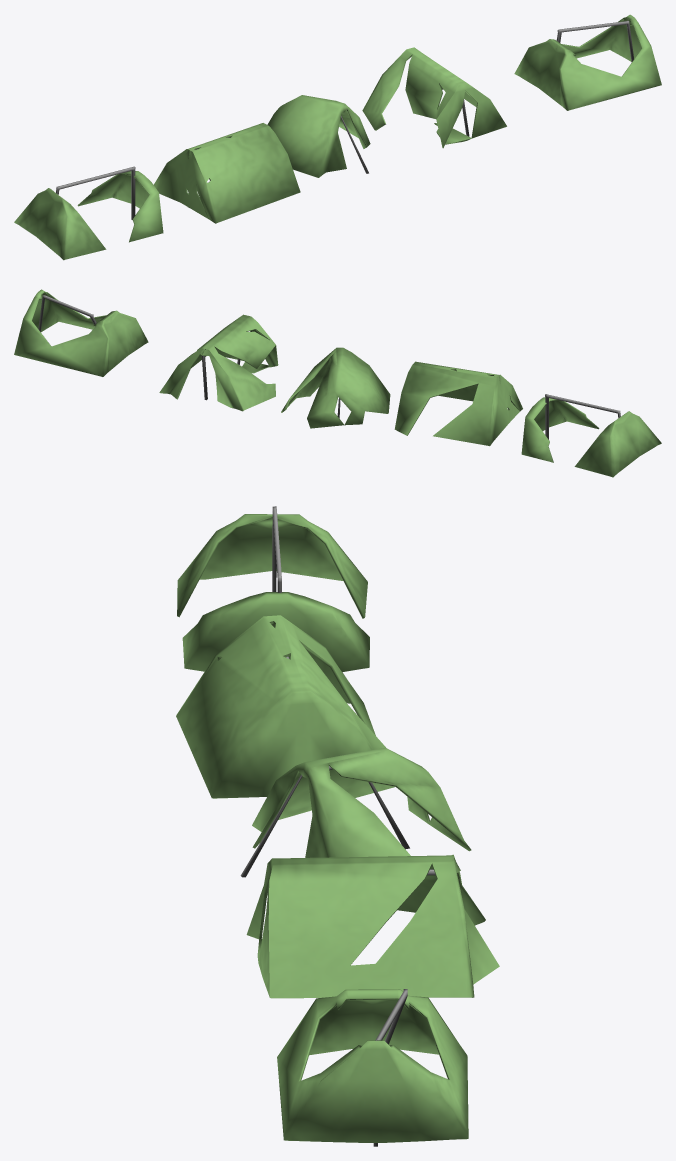
The model's file is DamagedTents_Green.obj.
3 views of the same model, one above another, from view 1: azimuth 30°, elevation 25°; view 2: azimuth 150°, elevation 25°; view 3: azimuth 270°, elevation 25° (orthographic). The views are drawn at different scales.
Visible parts, largest first — view 1: DamagedTent_Base.003_Material, DamagedTent_Base_Material, DamagedTent_Base.001_Material, DamagedTent_Base.004_Material, DamagedTent_Base.002_Material, Tent_SupportBar.009_Material.159, Tent_SupportBar.005_Material.159; view 2: DamagedTent_Base.003_Material, DamagedTent_Base_Material, DamagedTent_Base.001_Material, DamagedTent_Base.004_Material, DamagedTent_Base.002_Material, Tent_SupportBar.009_Material.159, Tent_SupportBar.005_Material.159; view 3: DamagedTent_Base.001_Material, DamagedTent_Base_Material, DamagedTent_Base.003_Material, DamagedTent_Base.004_Material, DamagedTent_Base.002_Material, Tent_SupportBar.007_Material.159.
Boxes of the visible parts, left/top/right/bottom form: DamagedTent_Base.003_Material: left=154, top=123, right=300, bottom=223; DamagedTent_Base_Material: left=514, top=14, right=661, bottom=110; DamagedTent_Base.001_Material: left=362, top=47, right=506, bottom=148; DamagedTent_Base.004_Material: left=14, top=171, right=163, bottom=260; DamagedTent_Base.002_Material: left=267, top=95, right=370, bottom=177; Tent_SupportBar.009_Material.159: left=56, top=166, right=135, bottom=219; Tent_SupportBar.005_Material.159: left=556, top=20, right=633, bottom=62; DamagedTent_Base.003_Material: left=394, top=361, right=522, bottom=446; DamagedTent_Base_Material: left=14, top=289, right=148, bottom=376; DamagedTent_Base.001_Material: left=159, top=314, right=278, bottom=411; DamagedTent_Base.004_Material: left=521, top=397, right=661, bottom=477; DamagedTent_Base.002_Material: left=281, top=347, right=390, bottom=428; Tent_SupportBar.009_Material.159: left=545, top=394, right=620, bottom=439; Tent_SupportBar.005_Material.159: left=38, top=295, right=96, bottom=331; DamagedTent_Base.001_Material: left=246, top=854, right=499, bottom=998; DamagedTent_Base_Material: left=277, top=989, right=468, bottom=1142; DamagedTent_Base.003_Material: left=176, top=615, right=385, bottom=798; DamagedTent_Base.004_Material: left=177, top=514, right=369, bottom=671; DamagedTent_Base.002_Material: left=252, top=747, right=471, bottom=857; Tent_SupportBar.007_Material.159: left=240, top=766, right=409, bottom=877.
Bounding box in the file's own units: 14.53 × 1.29 × 3.5.
